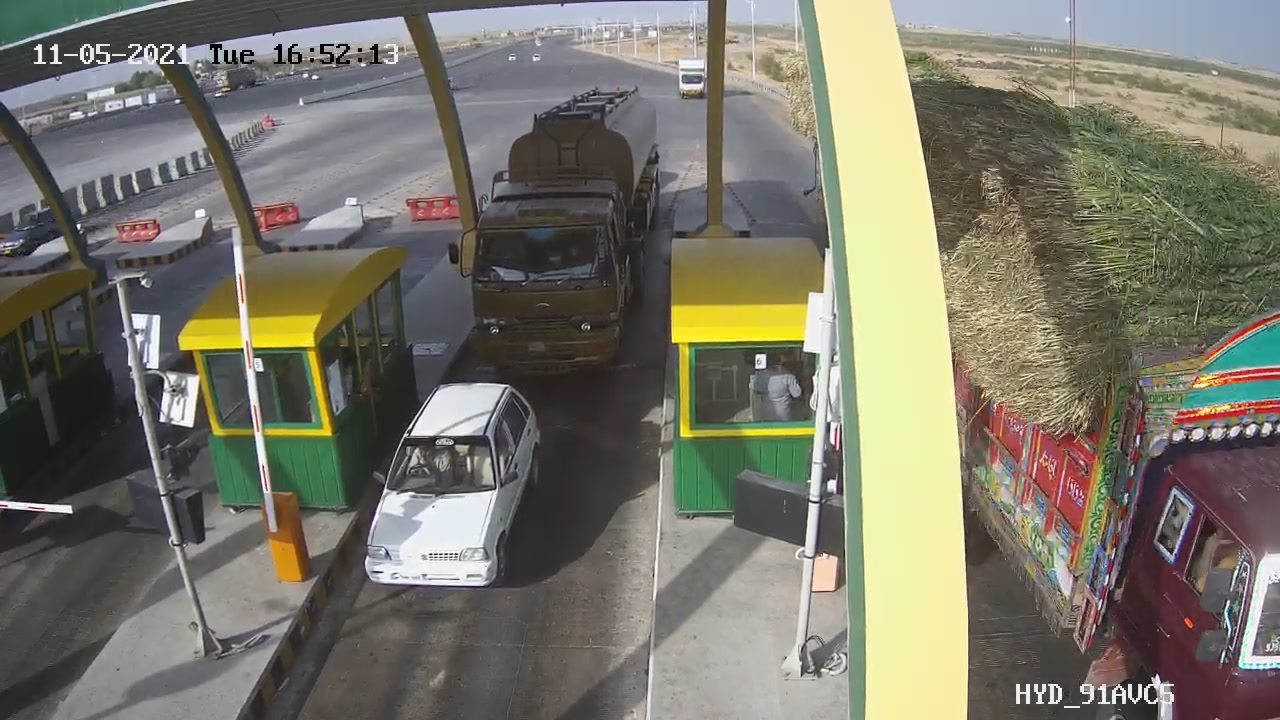F1: (349, 367, 558, 603)
F6: (463, 74, 675, 358)
